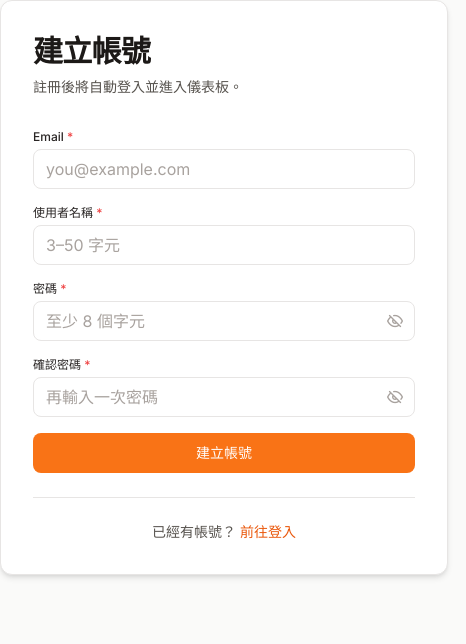
Test: RegisterView › 註冊 API 多欄位錯誤：每個欄位下顯示對應訊息
This screenshot has width=466, height=644.
Type "dup@b.com" into the field labelled "Email *" at x=224, y=169, box [33,149,415,189]
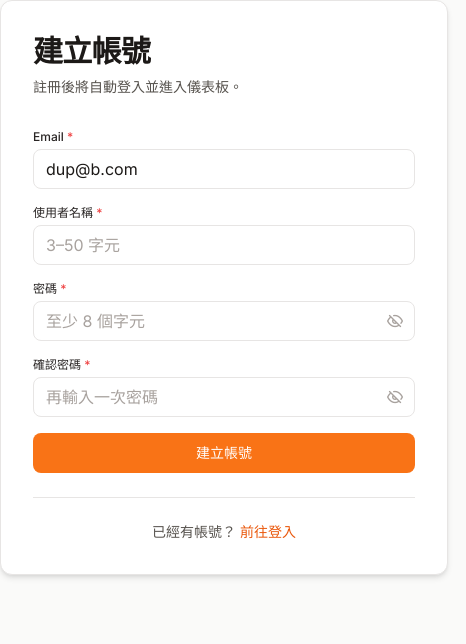
Type "taken" into the field named "username" at x=224, y=245, box [33,225,415,265]
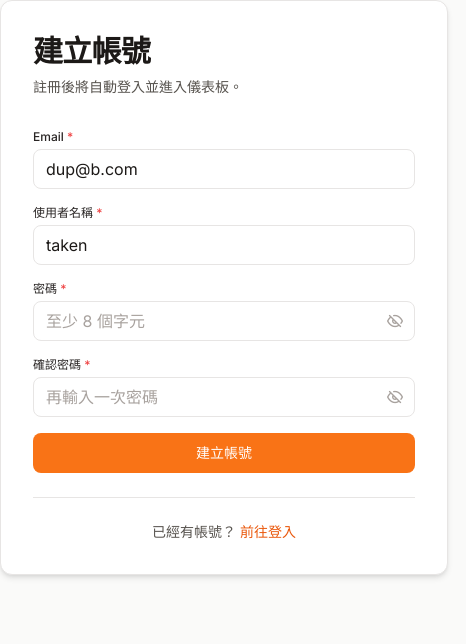
Type "StrongPwd1" into the password field named "password" at x=224, y=321, box [33,301,415,341]
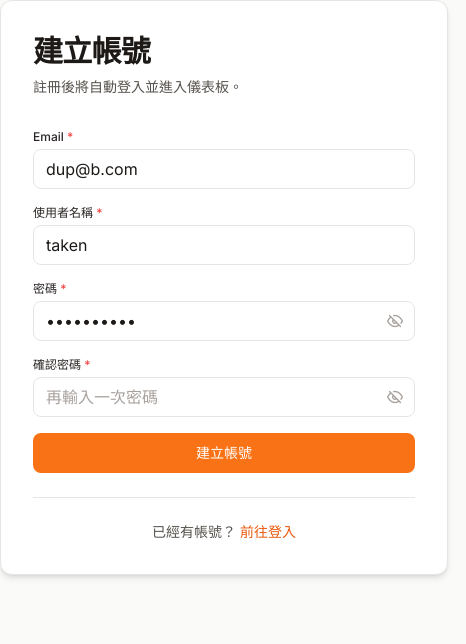
Type "StrongPwd1" into the password field named "confirmPassword" at x=224, y=397, box [33,377,415,417]
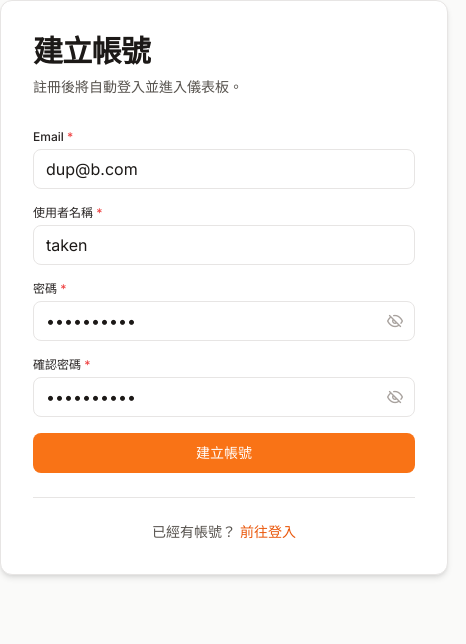
Submit the form, box [33,129,415,473]
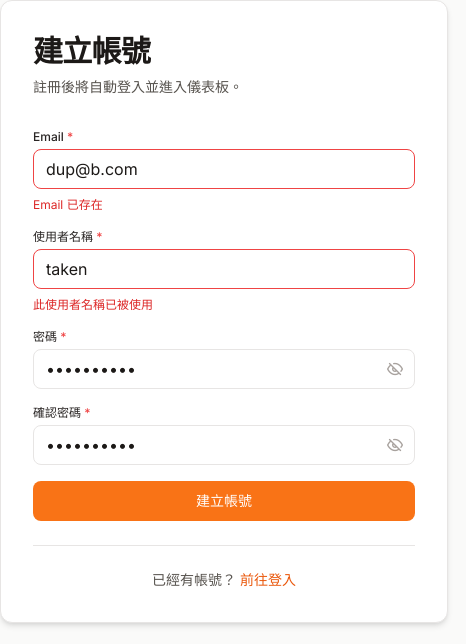
Expected: the text "Email 已存在" is shown, [33,197,103,212]
Expected: the text "此使用者名稱已被使用" is shown, [33,297,153,312]
